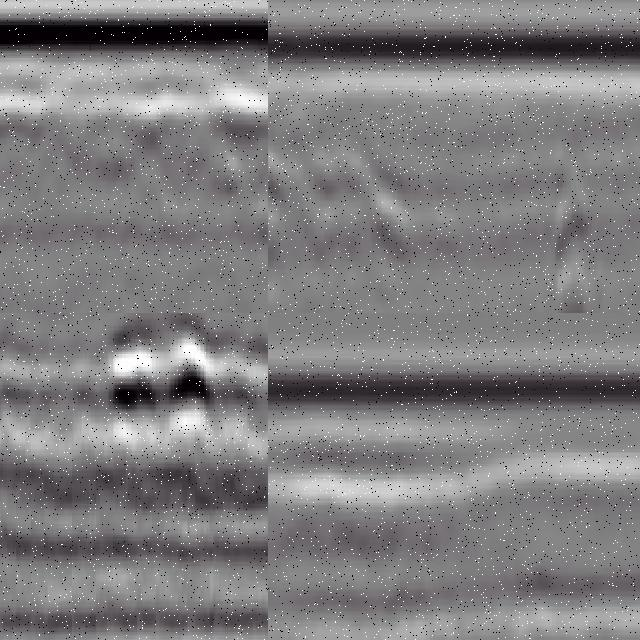crack: (550, 148, 592, 314), (1, 36, 15, 314)
loose: (93, 314, 264, 470)
